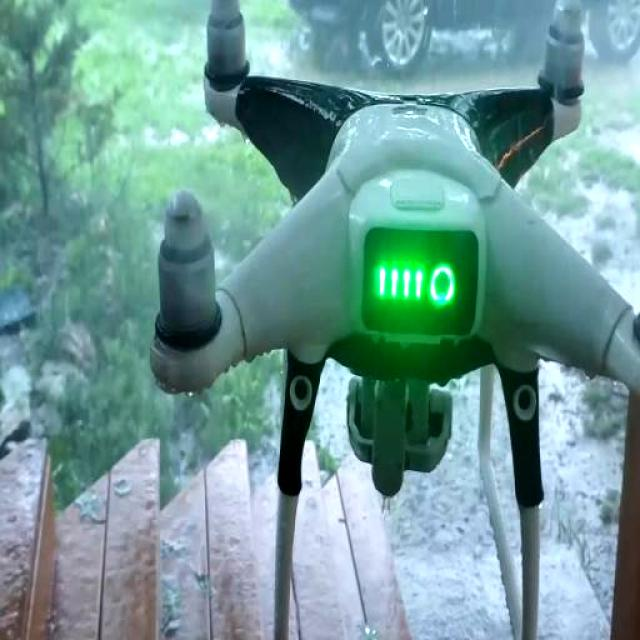bird: (142, 0, 640, 640)
